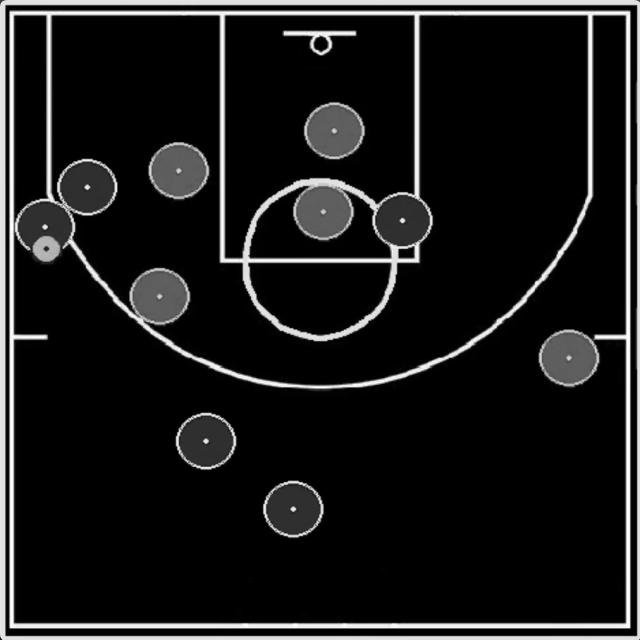Basketball: (31, 235, 61, 264)
Team_A: (176, 412, 237, 470), (15, 199, 76, 256), (264, 481, 324, 538), (372, 192, 432, 249), (57, 159, 117, 215)
Team_B: (539, 330, 600, 388), (149, 142, 209, 200), (129, 268, 190, 325), (304, 102, 364, 159), (293, 185, 354, 240)
